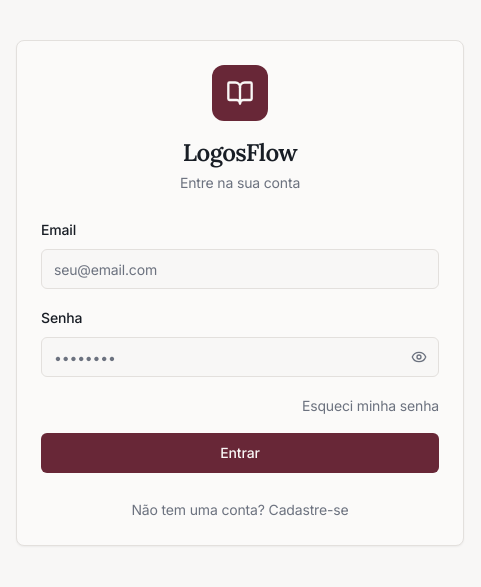
Test: Auth Page › alterna para modo cadastro
Click the button "Não tem uma conta? Cadastre-se": (240, 510) [132,500,348,520]
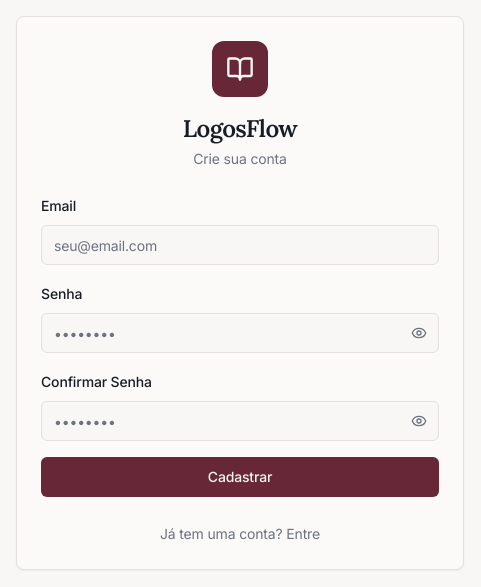
Now the button "Cadastrar" is shown, box [41,457,439,497]
Now the password field labelled "Confirmar Senha" is shown, box [41,401,439,441]
